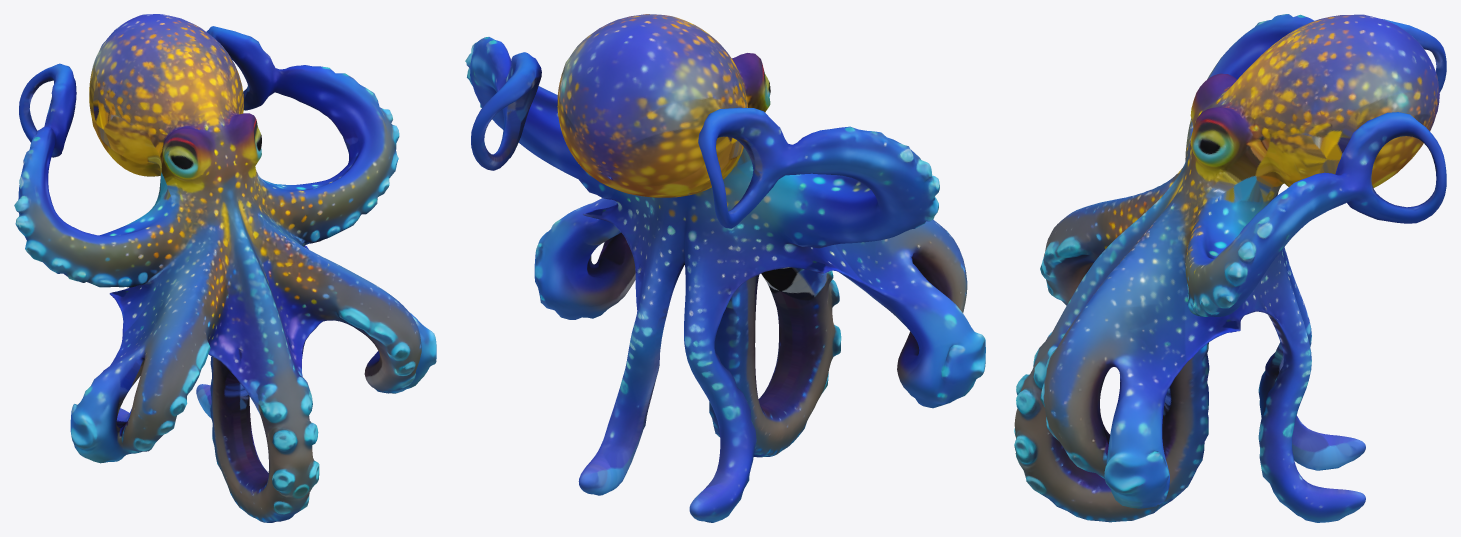
File: base_basic_shaded.glb
3 views of the same model, side by side, from view 1: azimuth 30°, elevation 25°; view 2: azimuth 150°, elevation 25°; view 3: azimuth 270°, elevation 25° (orthographic). The views are drawn at different scales.
Parts seen in each view (by area): view 1: model; view 2: model; view 3: model.
Boxes of the visible parts, x1,y1,x2,y2 form: model: (14, 14, 436, 522); model: (465, 14, 985, 522); model: (1014, 14, 1446, 522).
Bounding box in the file's own units: 1.81 × 1.9 × 1.5.
1 material, 1 textured.
